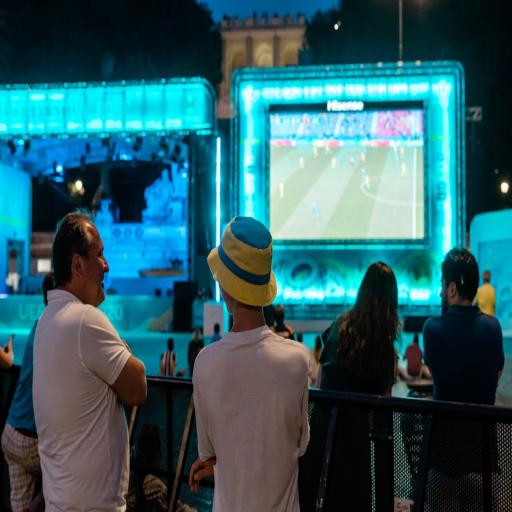face: (81, 224, 109, 307)
